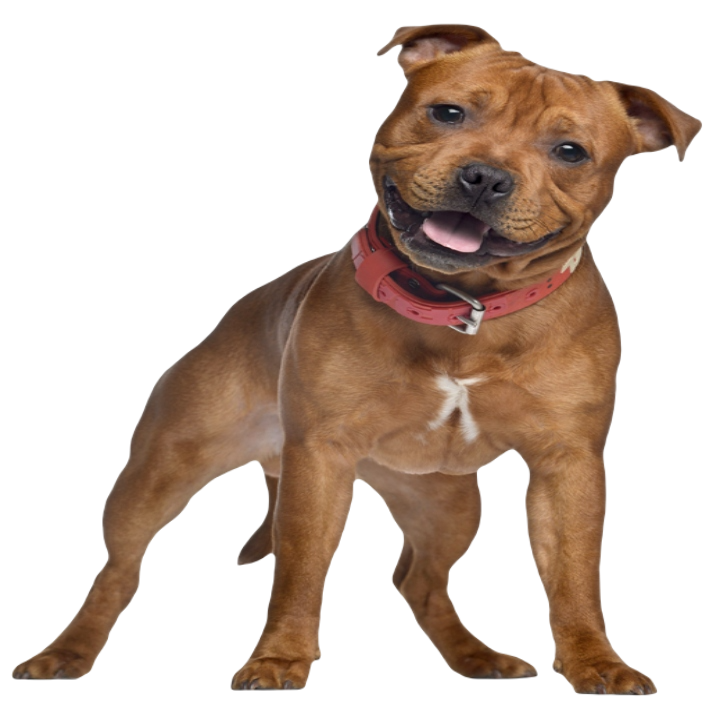Dog: (5, 20, 703, 689)
